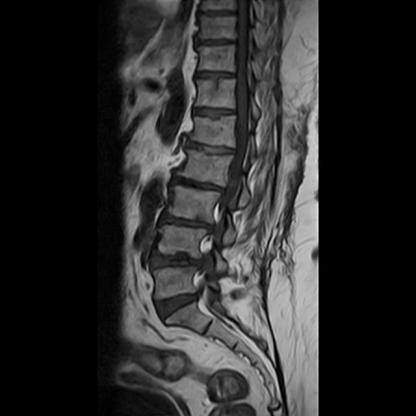Disc Bulgerotation: (147, 238, 213, 279), (151, 287, 208, 324), (156, 200, 217, 231), (168, 172, 231, 197)
